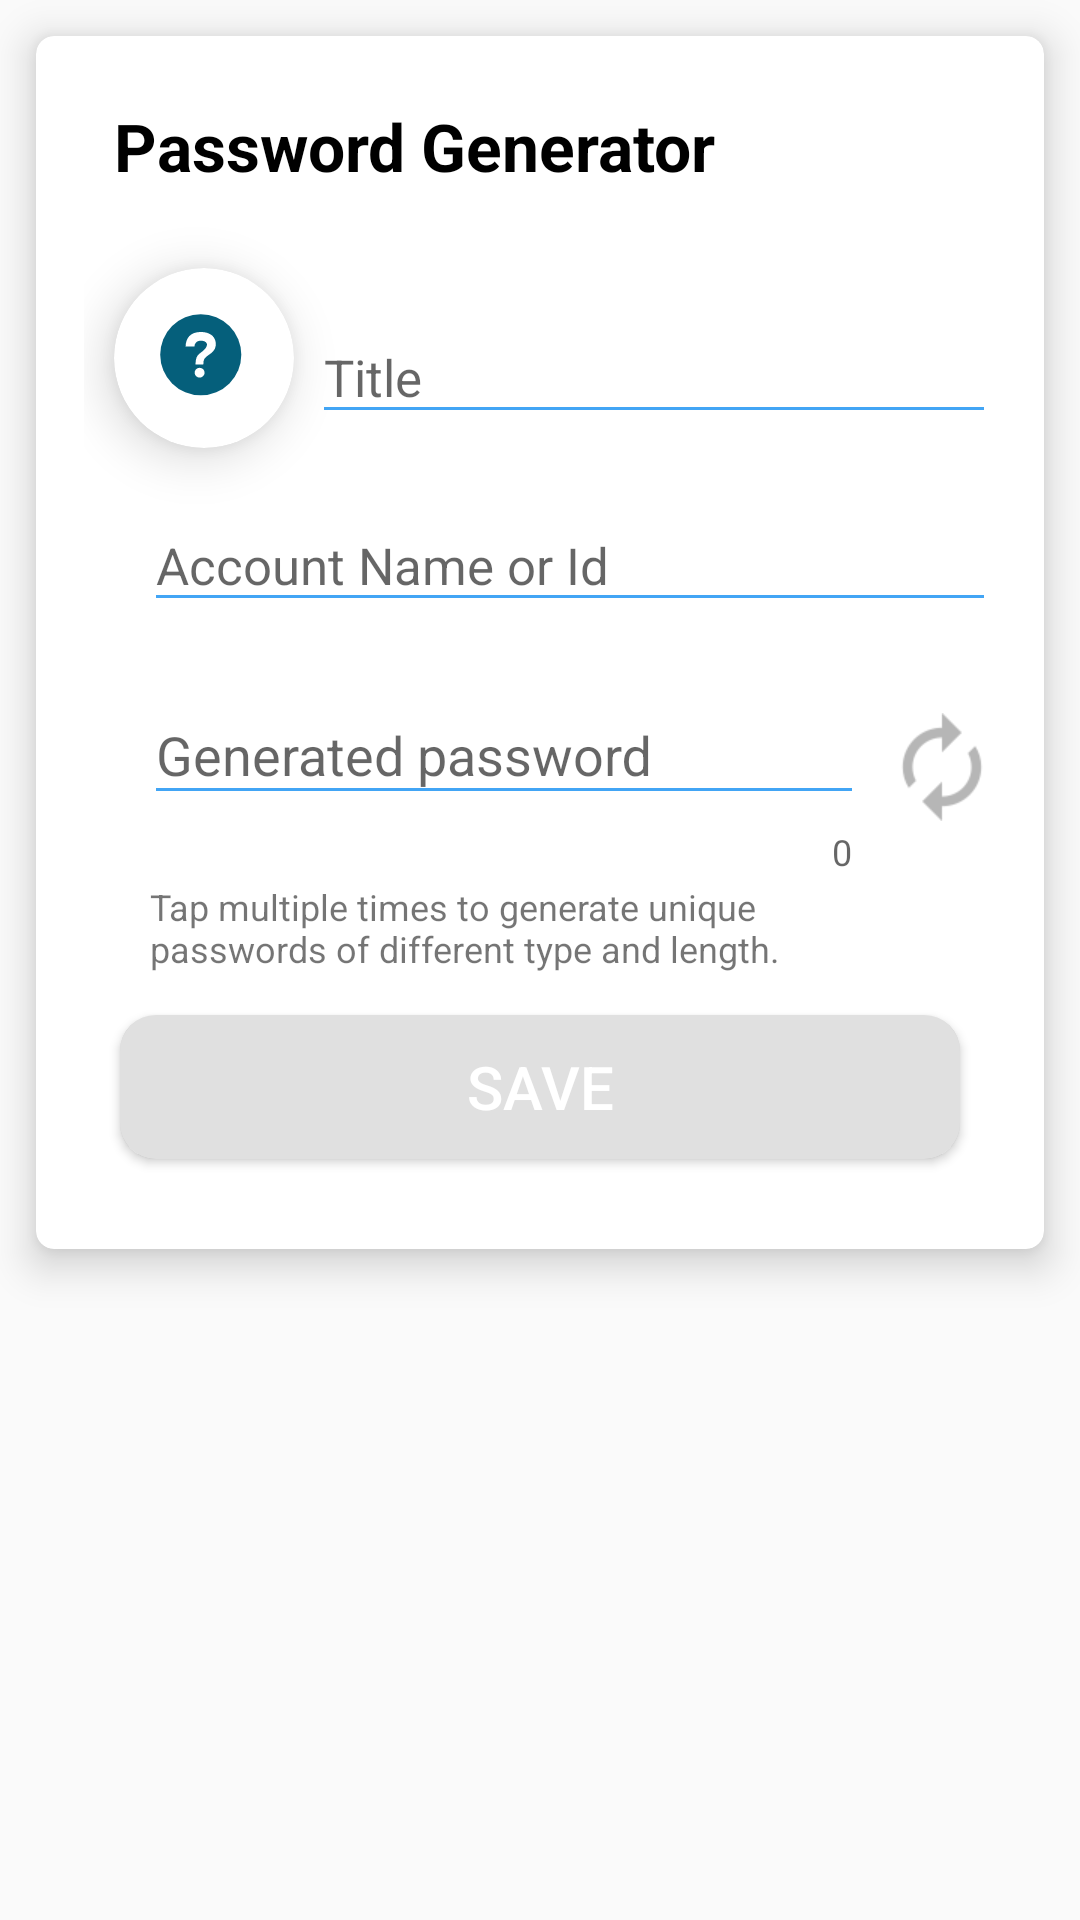

Icons on this 1080 × 1920 Android screen, each with the point to tap as (x=x, y=y):
regenerate: (x=942, y=767)
